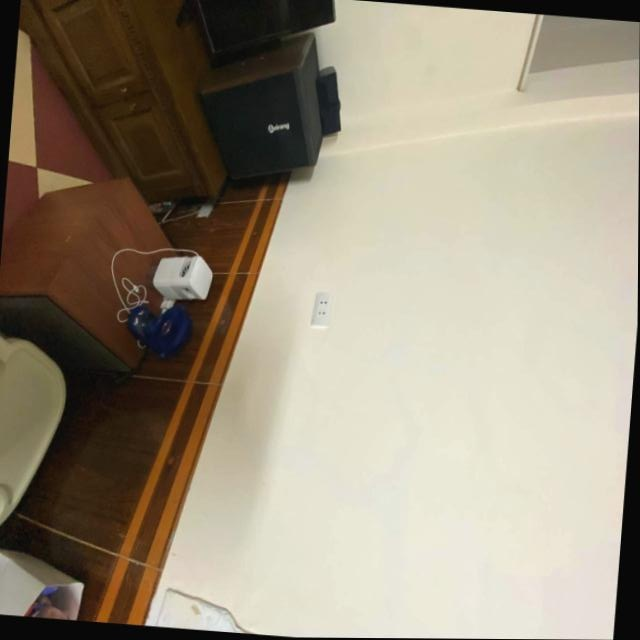outlet: (312, 290, 334, 327)
